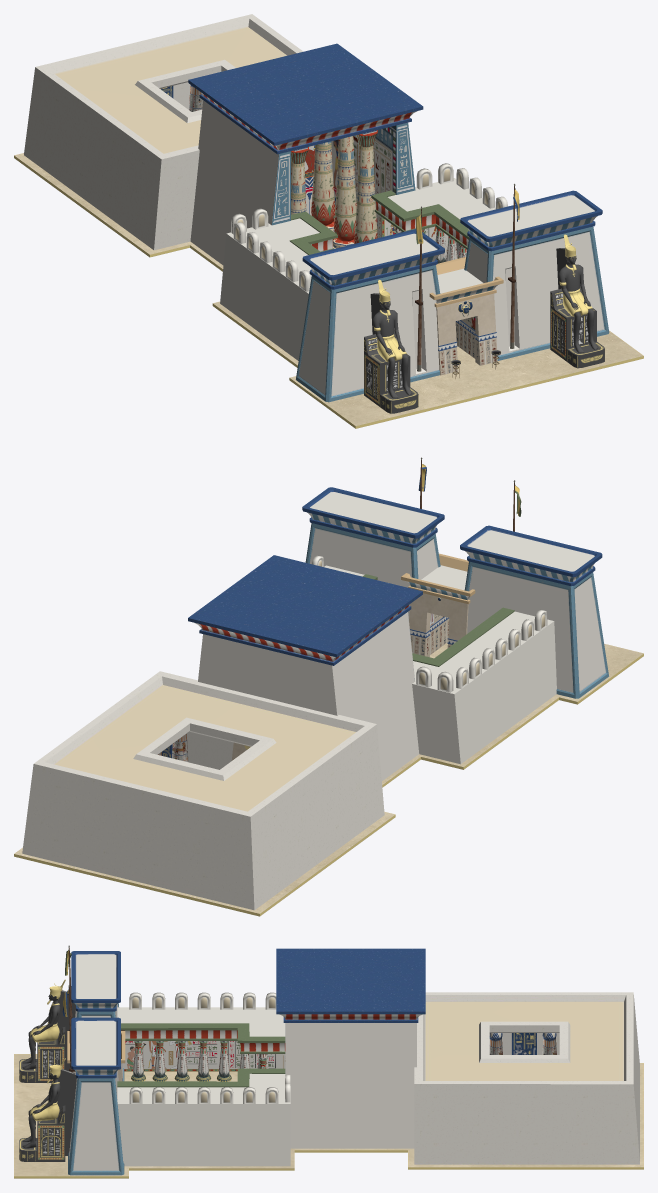
The model's file is Templo2.obj.
The picture shows the model from 3 angles, top to bottom: view 1: azimuth 30°, elevation 25°; view 2: azimuth 150°, elevation 25°; view 3: azimuth 270°, elevation 25°; orthographic projection. The views are drawn at different scales.
Parts seen in each view (by area): view 1: LP_Templo_Egipcio_ULTIMATE_v3; view 2: LP_Templo_Egipcio_ULTIMATE_v3; view 3: LP_Templo_Egipcio_ULTIMATE_v3.
Boxes of the visible parts, x1,y1,x2,y2 form: LP_Templo_Egipcio_ULTIMATE_v3: (14, 14, 643, 428); LP_Templo_Egipcio_ULTIMATE_v3: (14, 457, 643, 916); LP_Templo_Egipcio_ULTIMATE_v3: (14, 945, 643, 1178).
Bounding box in the file's own units: 1497 × 871 × 3264.
9 materials, 9 textured.
